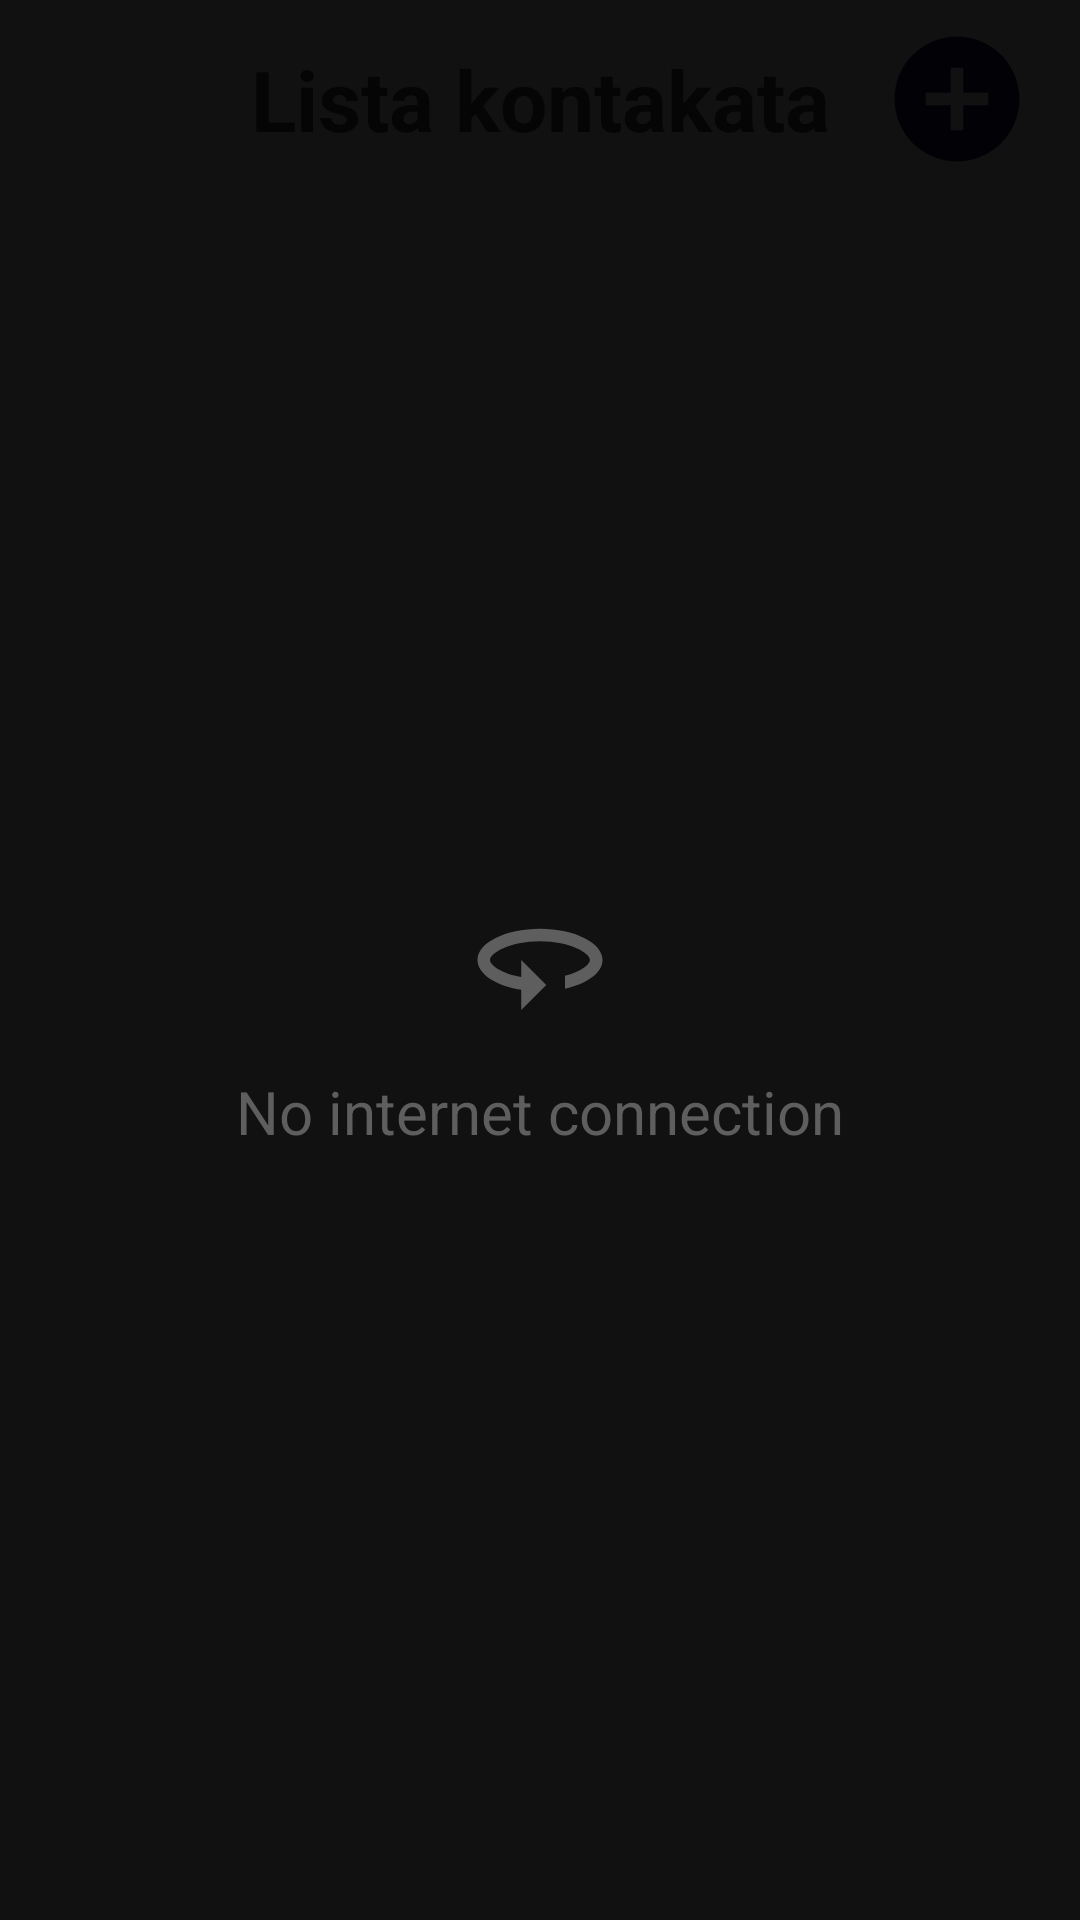

Where to tap for icons on this 1080*1920 app screen, as point (x, y):
internet conn circle: point (540, 969)
